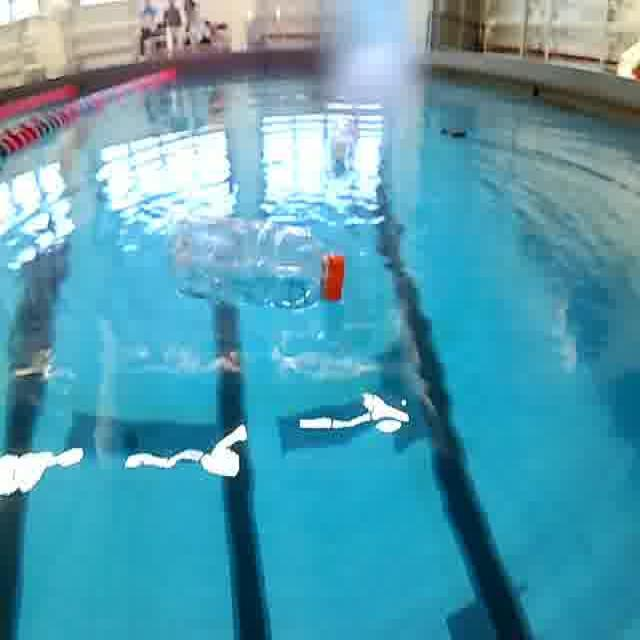Bottle: (166, 206, 349, 320)
